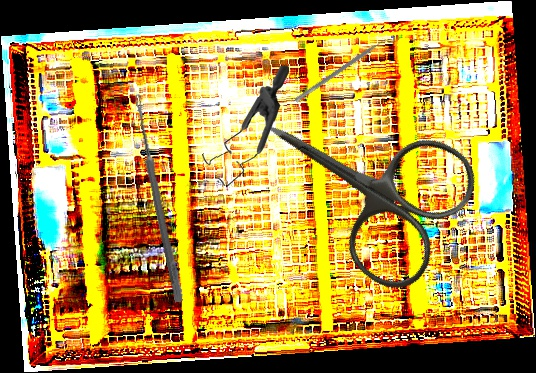Iris Scissors: (229, 58, 489, 303)
Spatula Surgical: (294, 35, 391, 107)
Speculum: (201, 64, 290, 187)
Surgical Spoon: (131, 93, 185, 303)
